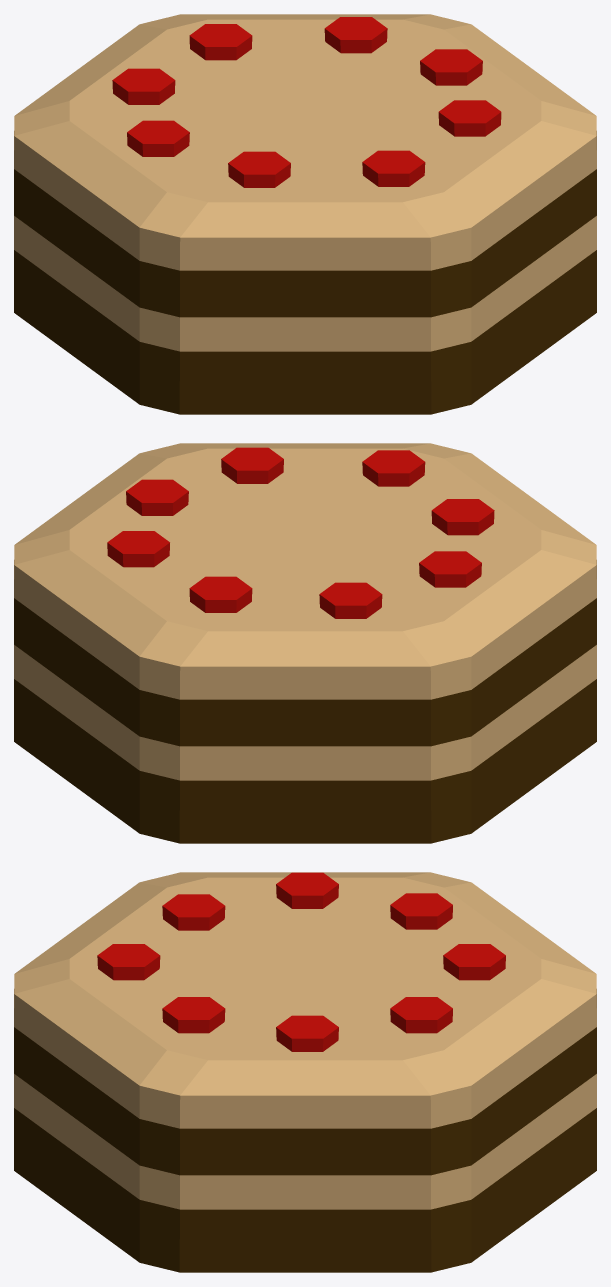
File: C_Cake_1.fbx
The picture shows the model from 3 angles, top to bottom: view 1: azimuth 30°, elevation 25°; view 2: azimuth 150°, elevation 25°; view 3: azimuth 270°, elevation 25°; orthographic projection.
Visible parts, largest first — view 1: C_Cake_1; view 2: C_Cake_1; view 3: C_Cake_1.
Part boxes in pixels (bbox=[...]): C_Cake_1: bbox=[14, 14, 596, 414]; C_Cake_1: bbox=[14, 443, 596, 843]; C_Cake_1: bbox=[14, 872, 596, 1272].
Bounding box in the file's own units: 202 × 223 × 86.85.
